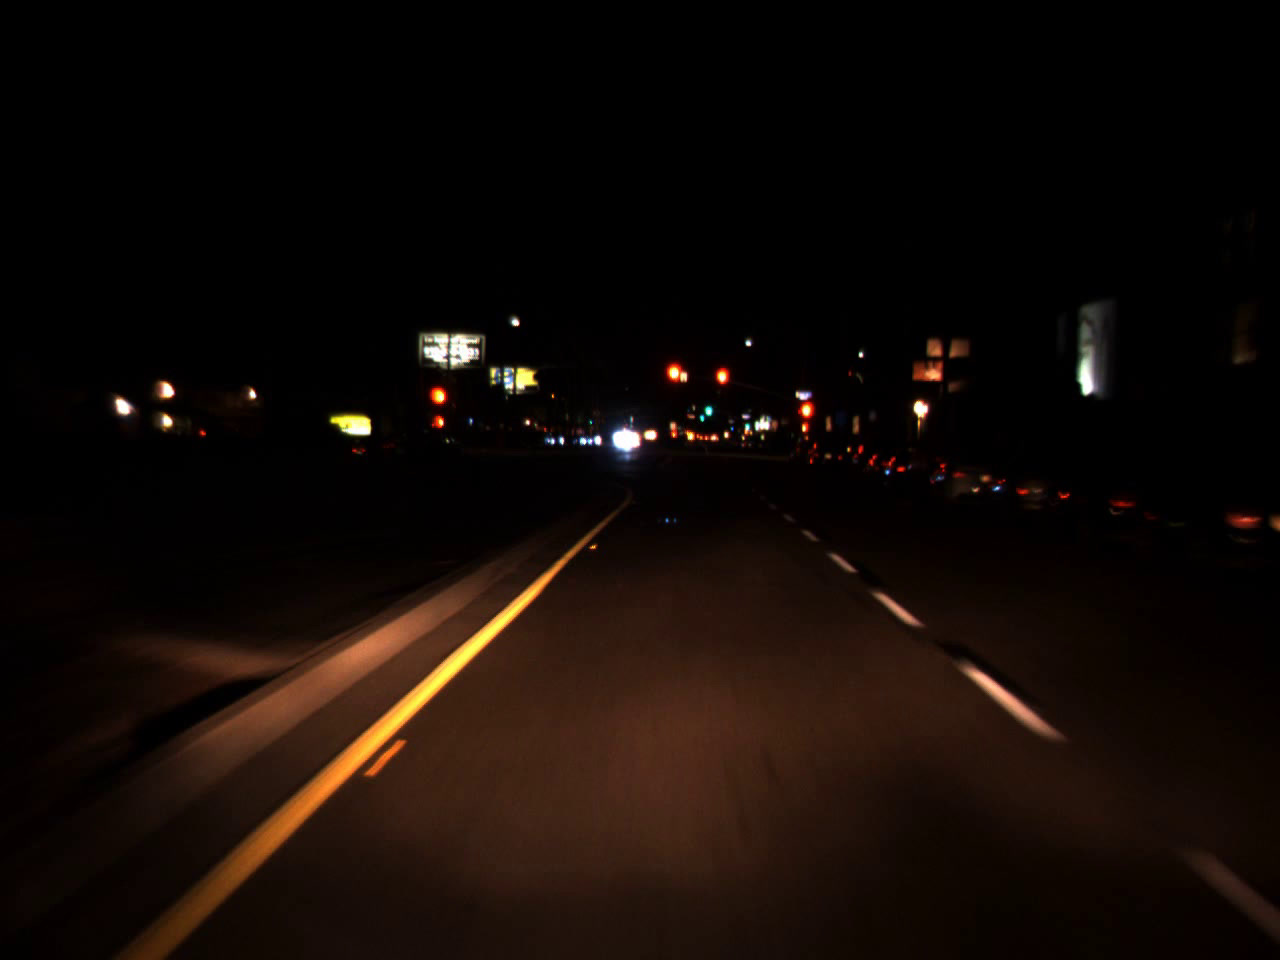go: (703, 396, 713, 417), (742, 418, 751, 430), (698, 410, 705, 422)
stop: (663, 359, 685, 407), (795, 398, 816, 441), (428, 384, 449, 427), (714, 365, 730, 405)
